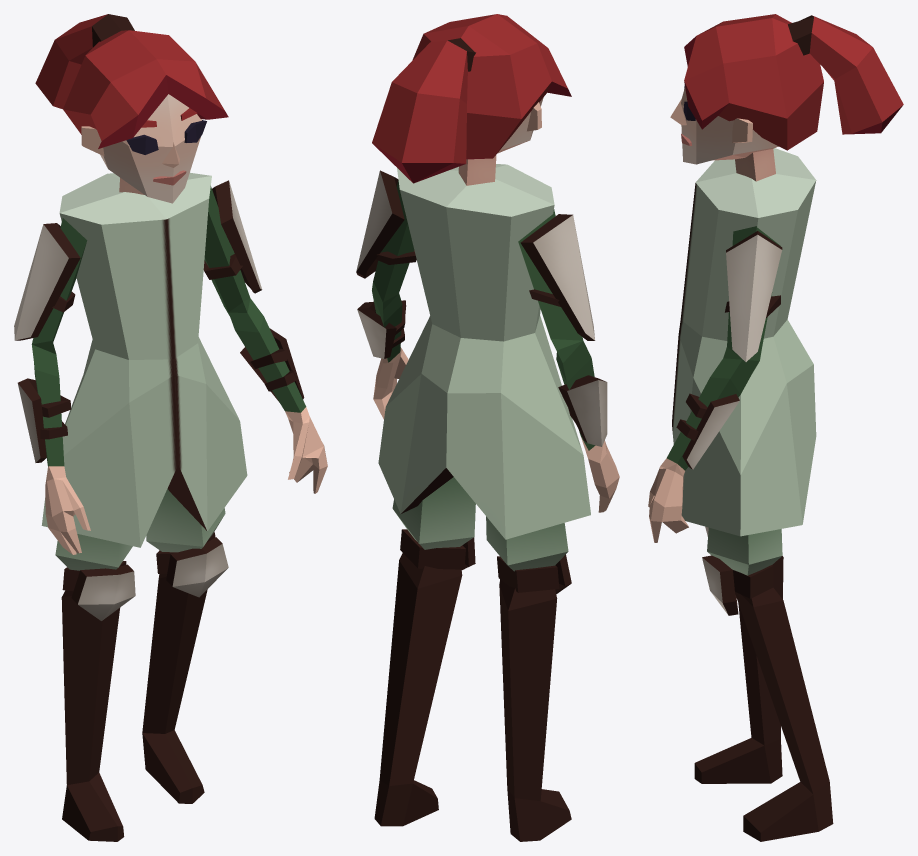
Rendered from aurora.glb.
3 views of the same model, side by side, from view 1: azimuth 30°, elevation 25°; view 2: azimuth 150°, elevation 25°; view 3: azimuth 270°, elevation 25° (orthographic). The views are drawn at different scales.
Parts seen in each view (by area): view 1: Object_2; view 2: Object_2; view 3: Object_2.
Boxes of the visible parts, x1,y1,x2,y2 form: Object_2: (14, 14, 327, 841); Object_2: (356, 14, 619, 841); Object_2: (648, 14, 903, 841).
Size of the model in its own units: 0.6017 by 1.71 by 0.5022.
Materials: 1 (1 with a texture image).
